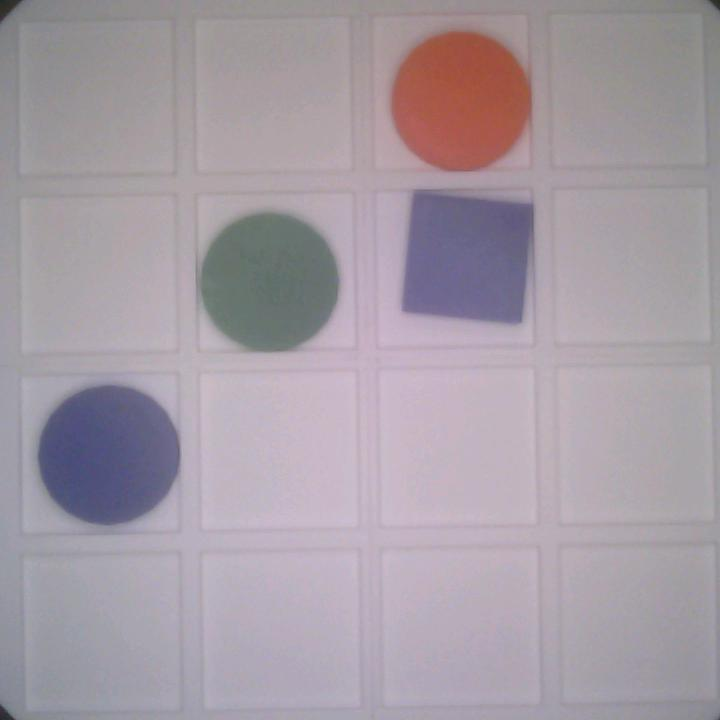Blue circle: (37, 383, 183, 531)
Blue square: (396, 183, 538, 328)
Green circle: (198, 212, 339, 350)
Orange circle: (387, 30, 531, 168)
